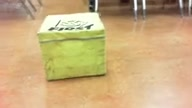cube: (37, 13, 105, 81)
